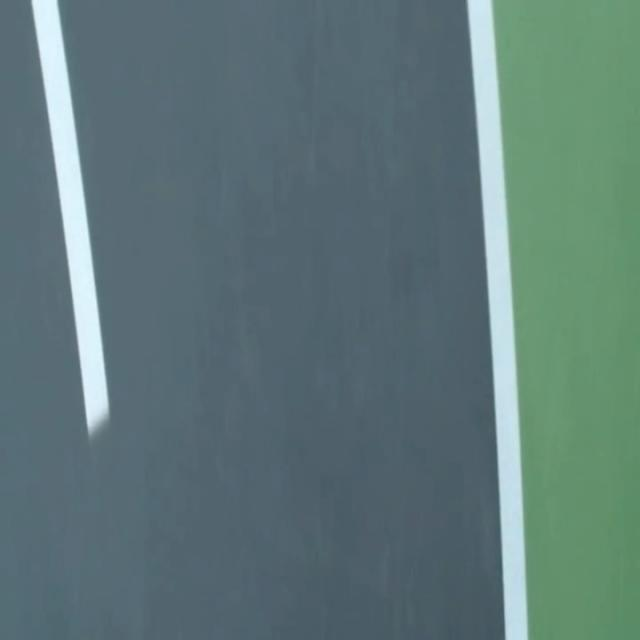center: (31, 0, 108, 436)
right: (468, 0, 528, 639)
